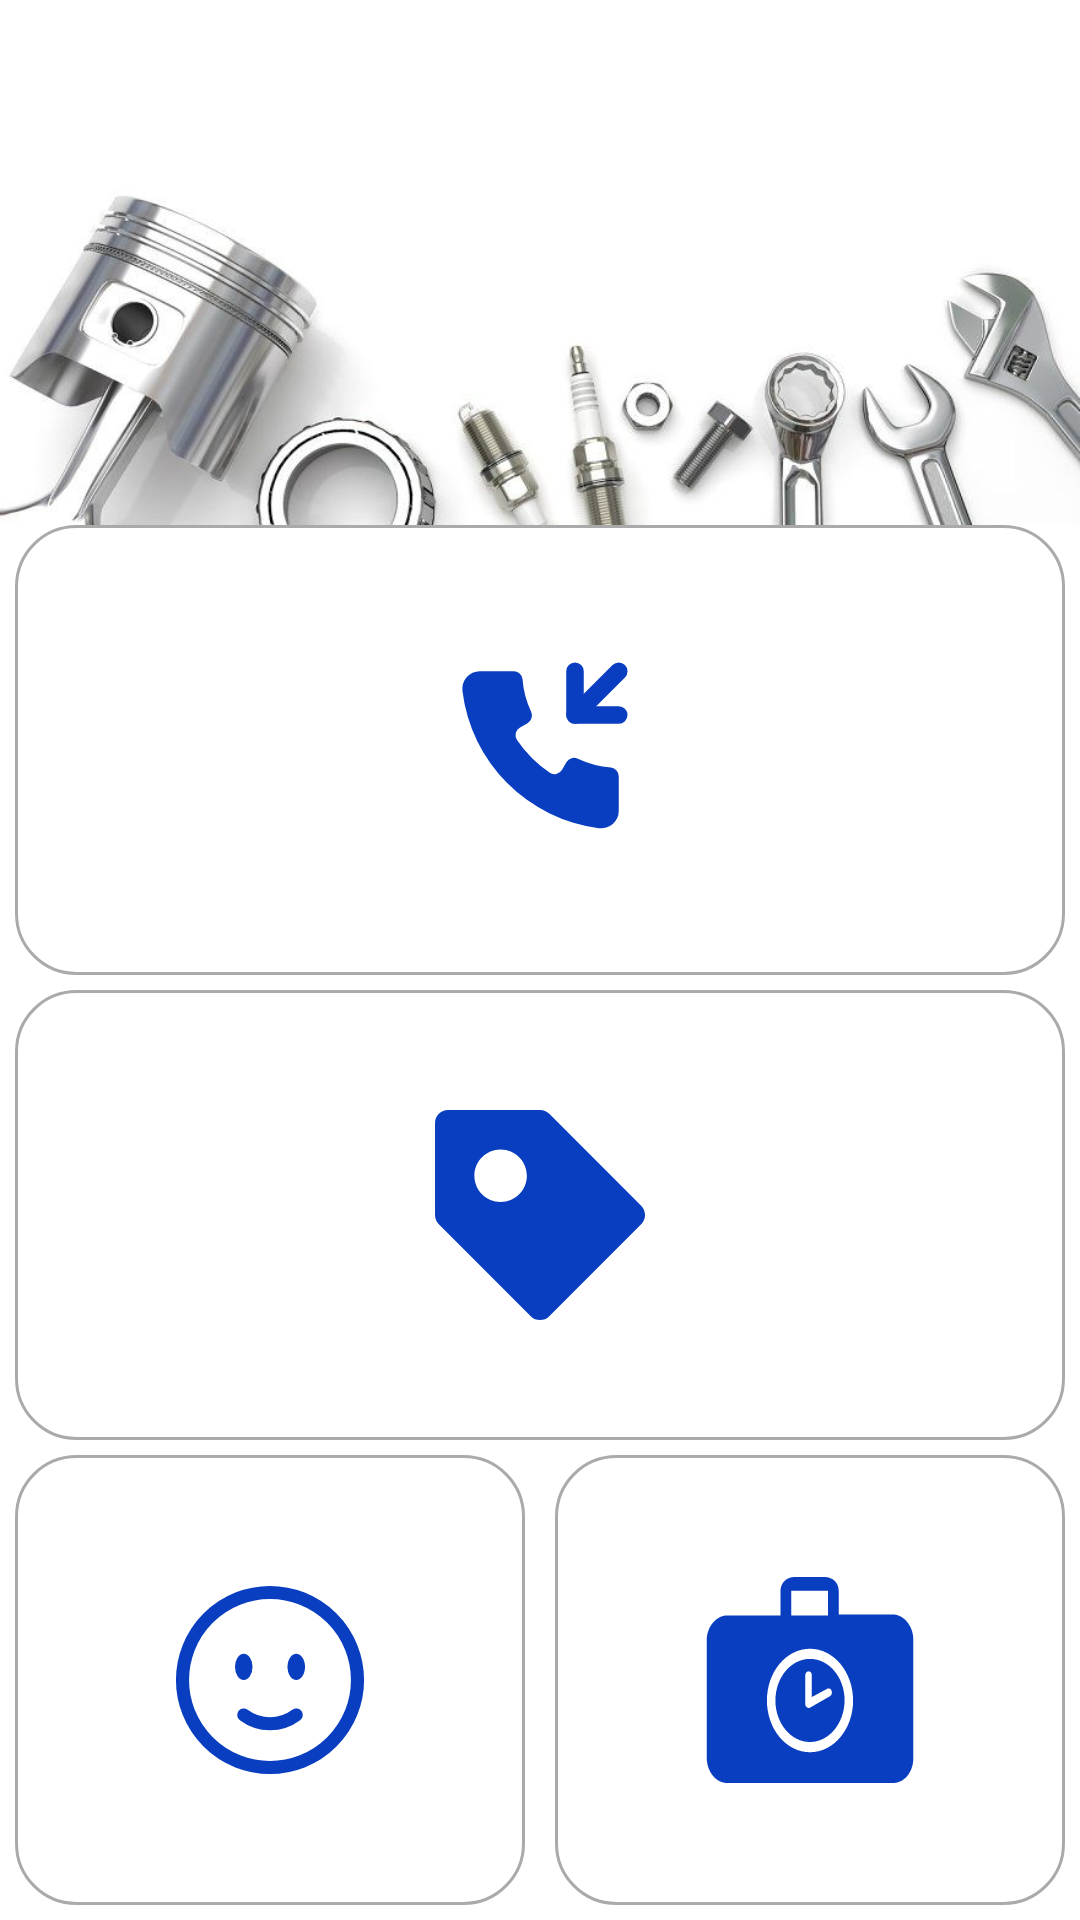

Screen size 1080*1920. Icon name, then its center in pixels as point (x, y):
call: point (545, 745)
